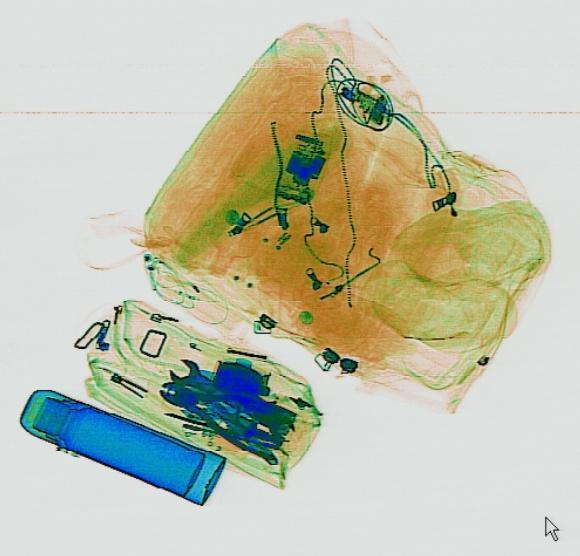Pliers: (149, 365, 277, 453)
Wrench: (164, 352, 269, 418)
